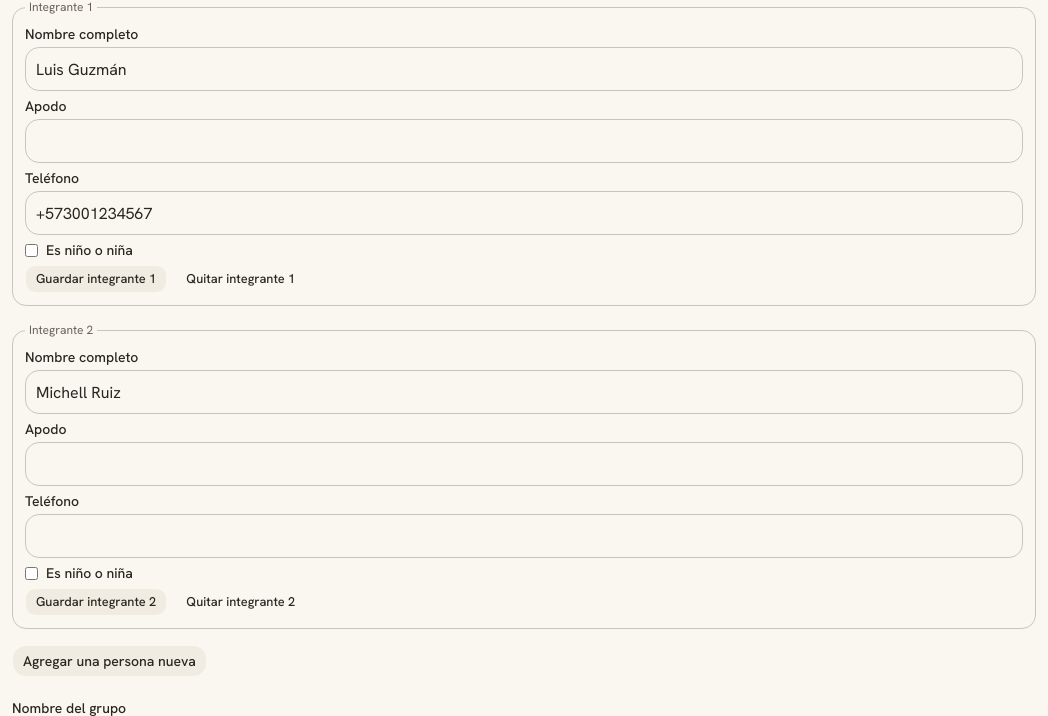
Test case: InvitationForm's derived name beside a custom one (B3) › re-derives the name beside a custom one as the members change
In the 1st field labelled "Apodo": (524,141) [25,119,1023,163], type "Lucho"
(page scrolled)
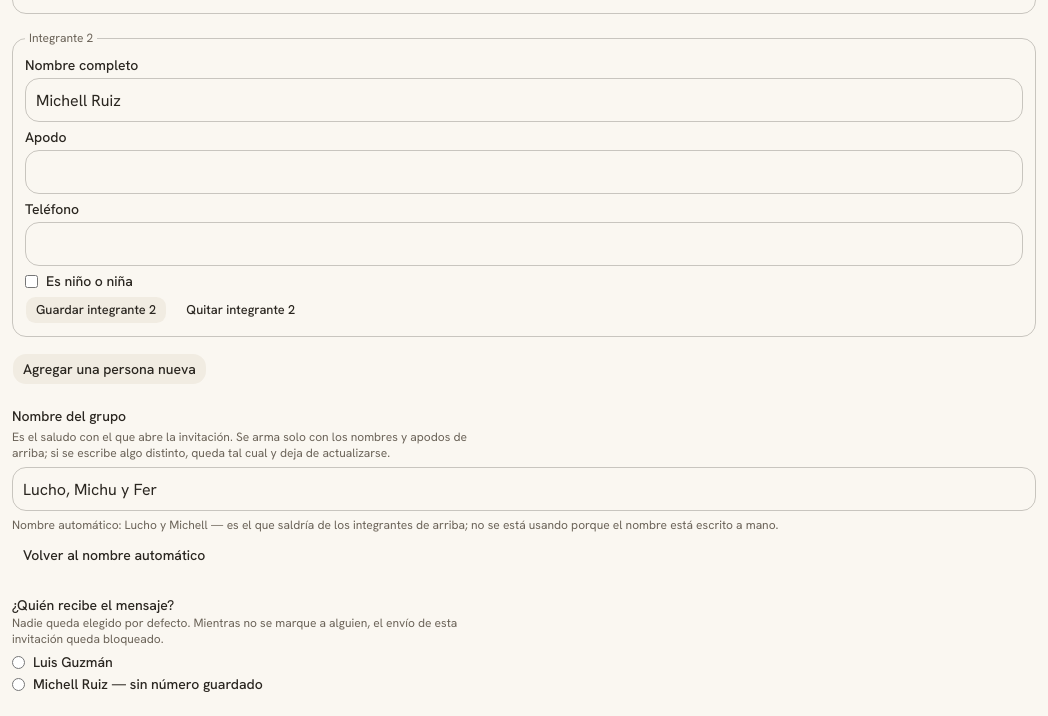
Expected: the field labelled "Nombre del grupo" holds "Lucho, Michu y Fer", [12,467,1036,511]
Now the text with test id "invitation-derived-name" shows "Lucho y Michell", box [125,517,208,533]
